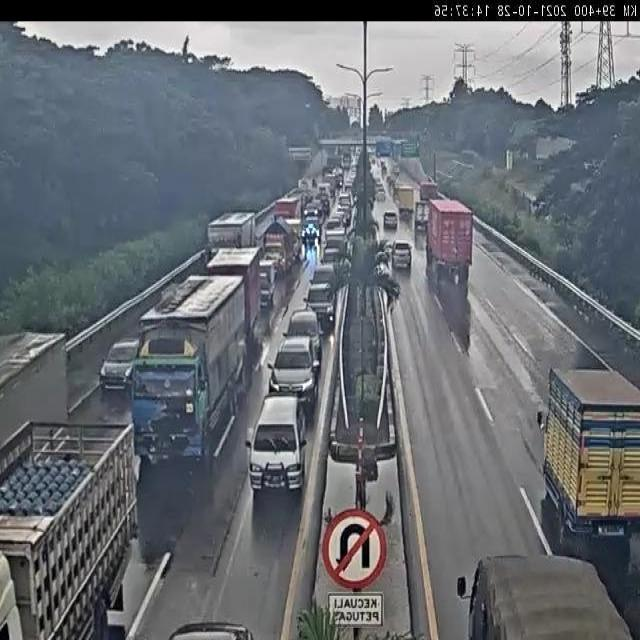Car: (265, 333, 320, 415), (98, 333, 144, 391), (282, 306, 323, 363), (301, 281, 336, 327), (392, 240, 412, 269), (308, 264, 338, 283), (302, 215, 322, 242), (319, 247, 344, 268), (304, 202, 320, 220), (383, 212, 398, 230), (376, 190, 386, 202)
Truck: (0, 414, 145, 640), (129, 270, 246, 464), (535, 365, 640, 544), (454, 551, 635, 640), (0, 329, 75, 452), (208, 246, 270, 352), (425, 199, 474, 280), (206, 212, 259, 257), (263, 216, 294, 274), (258, 257, 276, 309), (282, 217, 303, 261), (273, 193, 303, 220), (396, 183, 416, 214), (413, 200, 432, 231), (420, 180, 439, 202)
Van: (244, 394, 310, 496)
